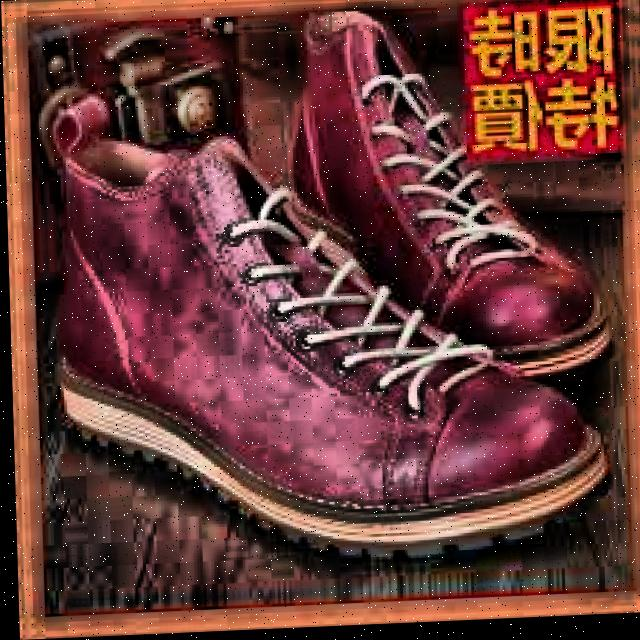shoes: (43, 0, 619, 562)
